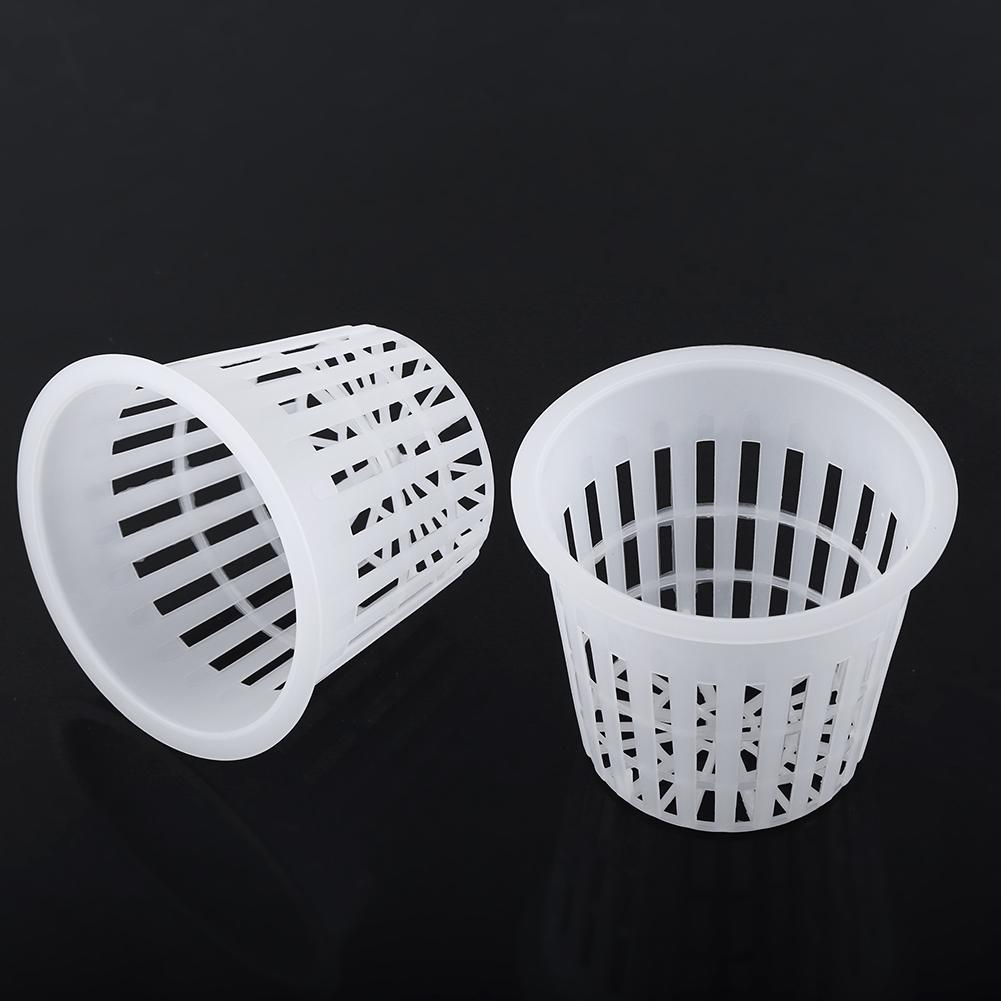basket: (511, 296, 958, 868), (23, 275, 495, 778)
